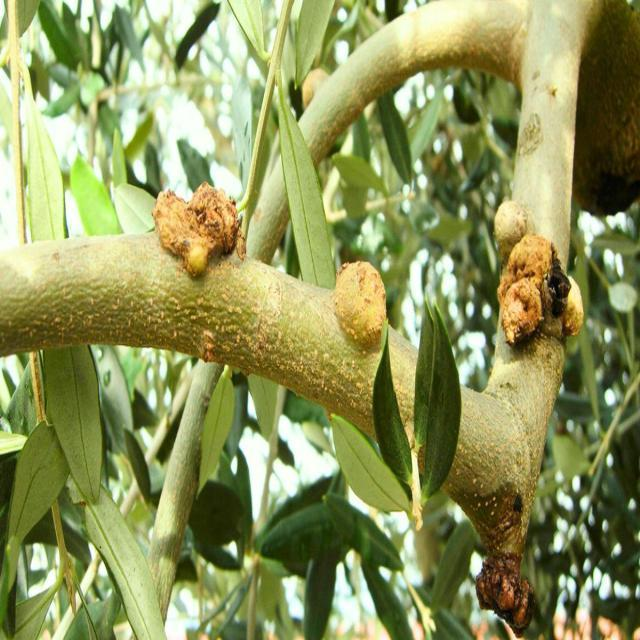Tuberculosis: (498, 235, 584, 342), (152, 182, 245, 276), (476, 554, 536, 636)
